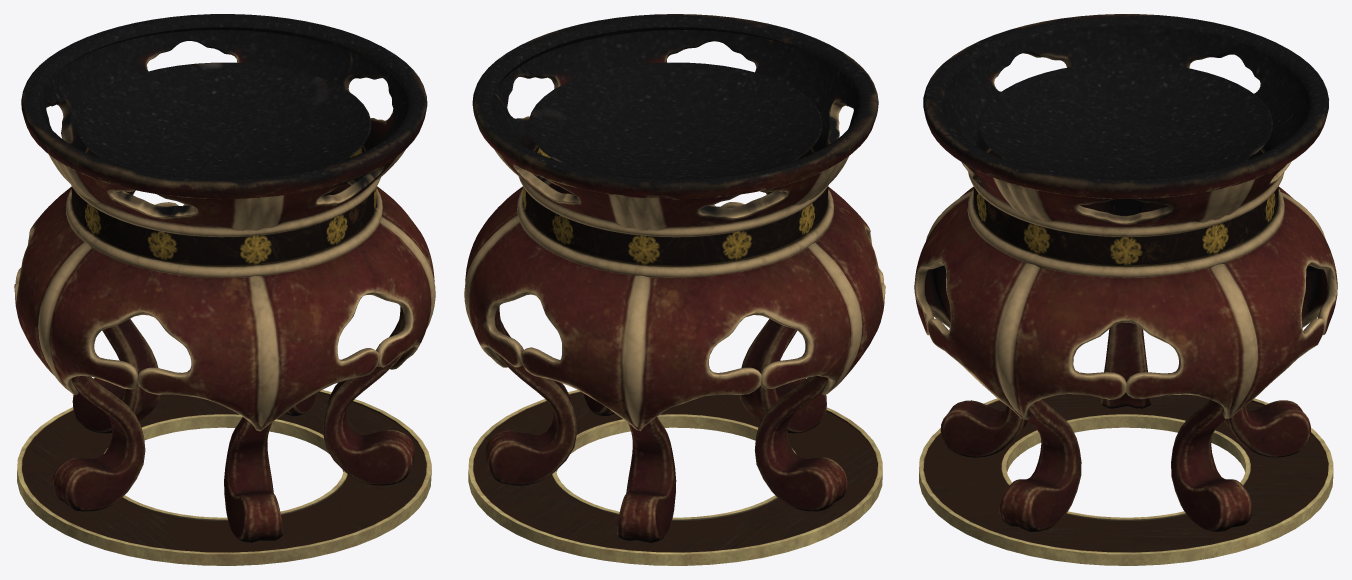
Rendered from SM_Fire_Briezer_01.fbx.
3 views of the same model, side by side, from view 1: azimuth 30°, elevation 25°; view 2: azimuth 150°, elevation 25°; view 3: azimuth 270°, elevation 25° (orthographic).
Visible parts, largest first — view 1: SM_Fire_Briezer_01_LOD0; view 2: SM_Fire_Briezer_01_LOD0; view 3: SM_Fire_Briezer_01_LOD0.
Boxes of the visible parts, box(x1,y1,x2,y2) form: SM_Fire_Briezer_01_LOD0: box(14, 14, 435, 565); SM_Fire_Briezer_01_LOD0: box(464, 14, 885, 565); SM_Fire_Briezer_01_LOD0: box(914, 14, 1337, 565).
Bounding box in the file's own units: 141 × 141 × 140.
